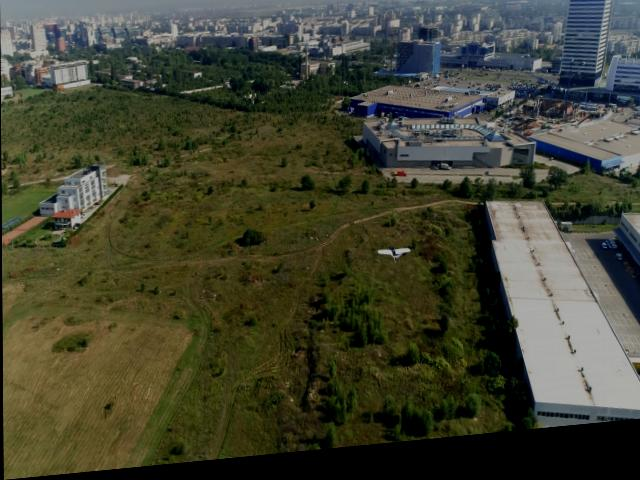plane: (376, 252, 409, 271)
